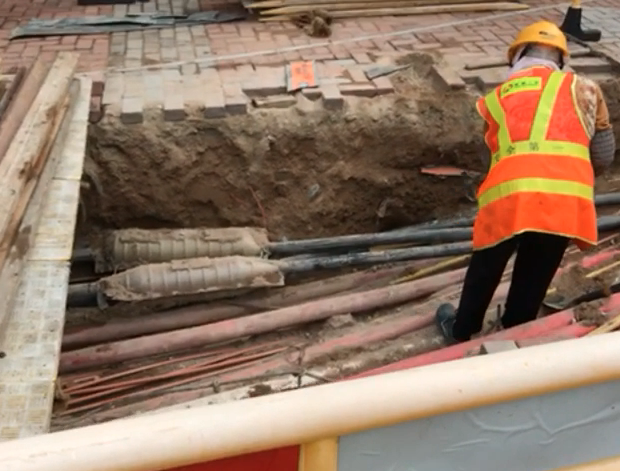Hard Hat: (507, 21, 569, 72)
Person: (438, 24, 614, 341)
Vest: (476, 53, 597, 256)
